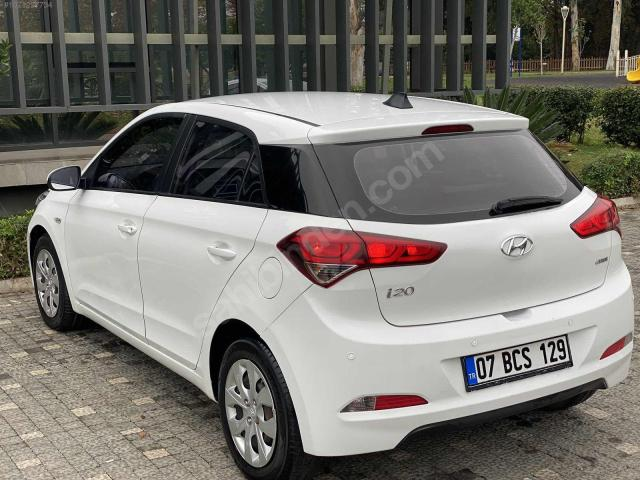plaka: (463, 334, 572, 391)
